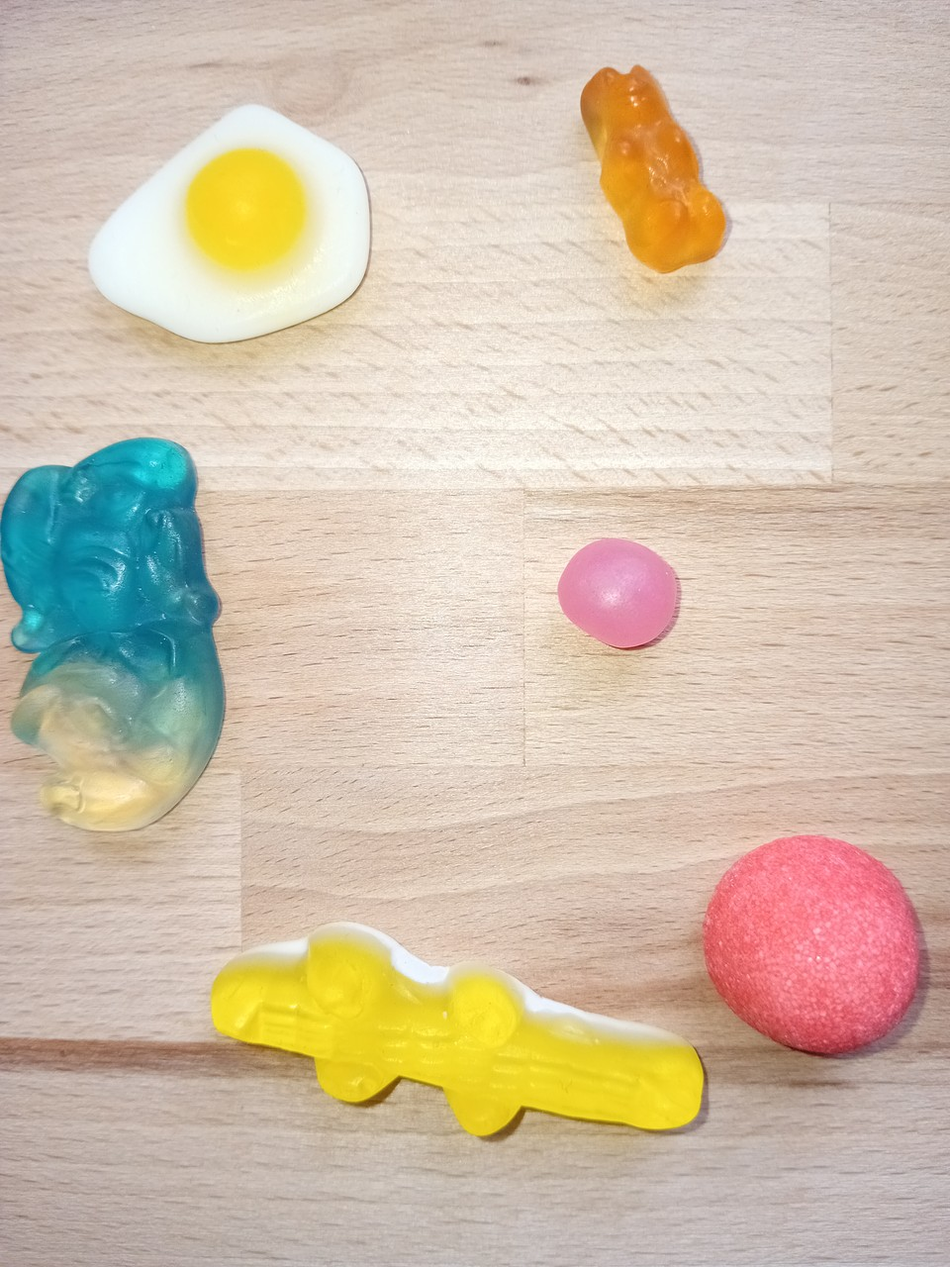crocodile_jaune: (205, 916, 711, 1148)
dragibus_rose: (551, 535, 693, 653)
oeuf_oeuf: (83, 92, 376, 347)
ourson_orangeClair: (574, 56, 734, 283)
schtroumpf_bleu-blanc: (0, 434, 227, 836)
tagada_fraise: (696, 837, 928, 1062)
